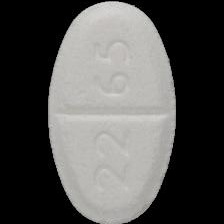33261-010: (0, 0, 224, 224)
